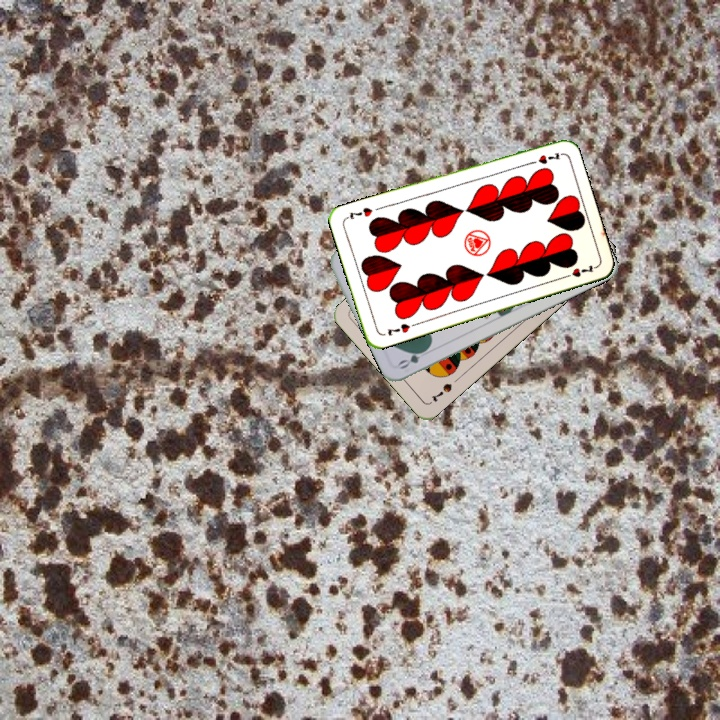GO: (394, 343, 433, 372)
H7: (524, 148, 563, 167), (383, 319, 419, 338)
S7: (428, 379, 455, 405)
